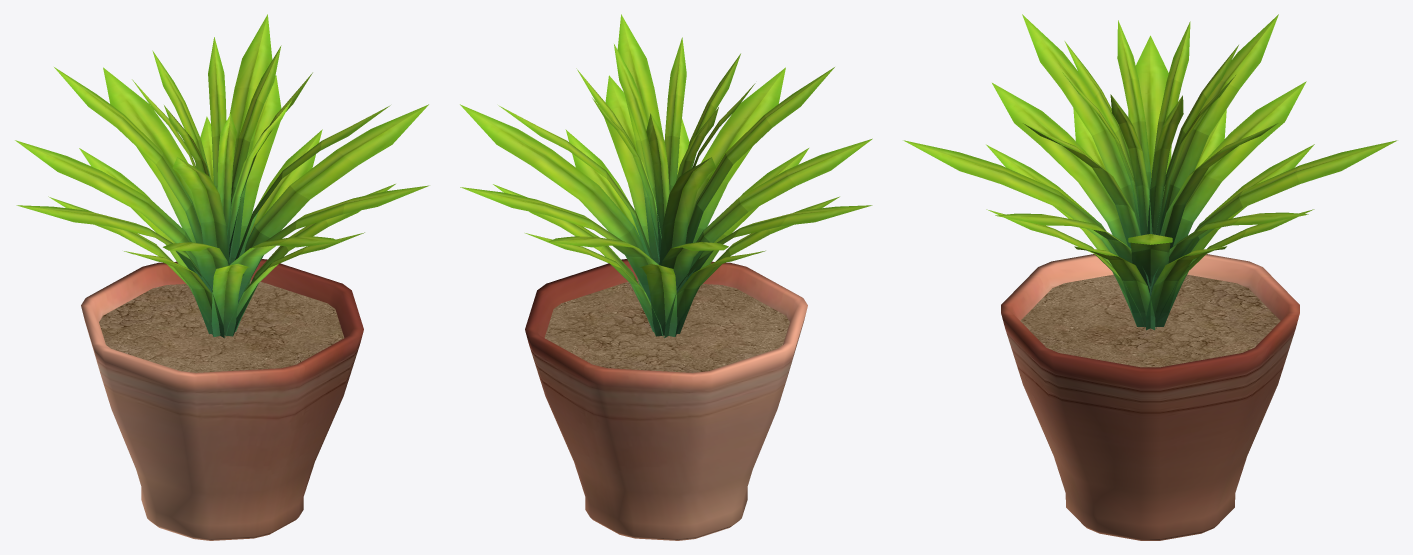
File: sh-bs0-little-plant.glb
The picture shows the model from 3 angles, left to right: view 1: azimuth 30°, elevation 25°; view 2: azimuth 150°, elevation 25°; view 3: azimuth 270°, elevation 25°; orthographic projection. The views are drawn at different scales.
Visible parts, largest first — view 1: 3_3, 1_1, 2_2; view 2: 3_3, 1_1, 2_2; view 3: 3_3, 1_1, 2_2.
Part boxes in pixels (x1,y1,x2,y2): 3_3: [15, 14, 429, 338]; 1_1: [81, 259, 363, 540]; 2_2: [99, 281, 344, 372]; 3_3: [460, 14, 872, 338]; 1_1: [525, 259, 807, 540]; 2_2: [544, 281, 789, 372]; 3_3: [903, 14, 1397, 330]; 1_1: [1001, 254, 1299, 540]; 2_2: [1020, 274, 1280, 367].
Size of the model in its own units: 1 by 1 by 1.
3 materials, 3 textured.
